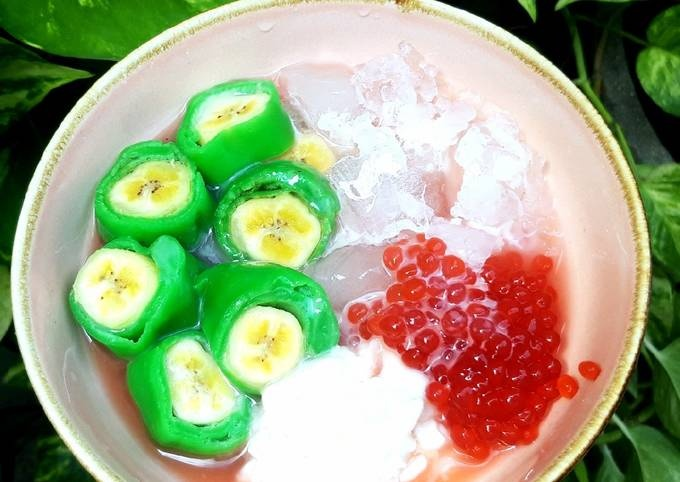pisang_ijo: (206, 272, 321, 391)
